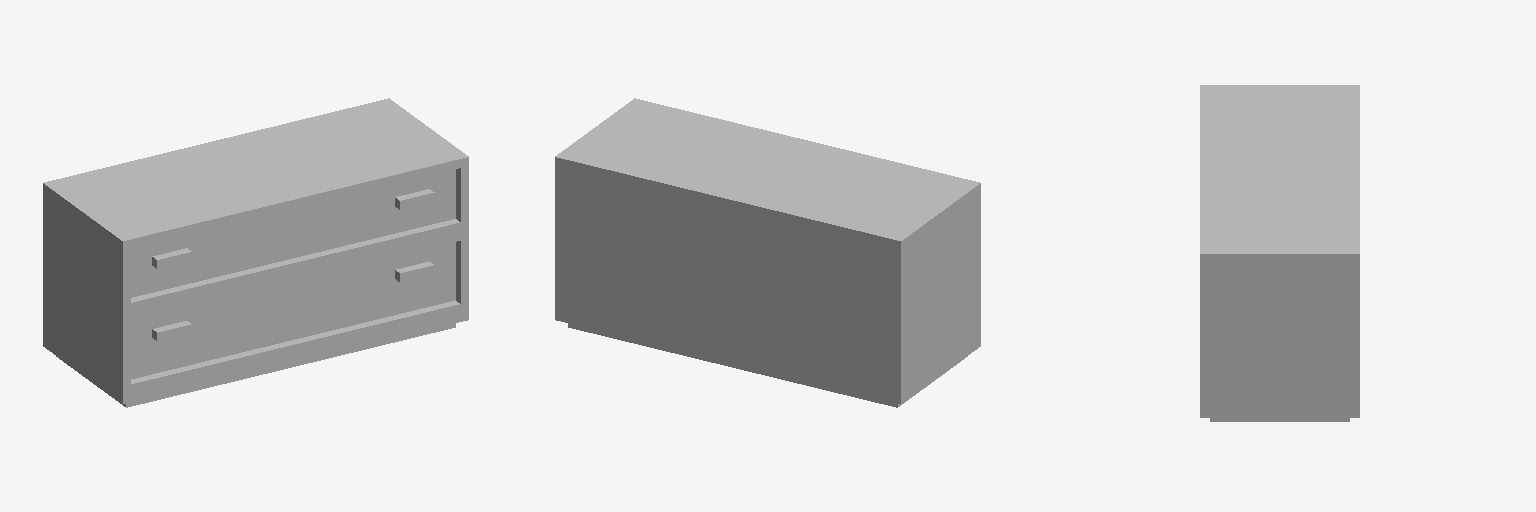
The model's file is comoda pasillo.obj.
3 renders of one model, left to right at view 1: azimuth 30°, elevation 25°; view 2: azimuth 150°, elevation 25°; view 3: azimuth 270°, elevation 25°, orthographic.
Visible parts, largest first — view 1: object 1; view 2: object 1; view 3: object 1.
Boxes of the visible parts, x1,y1,x2,y2 form: object 1: [43, 98, 468, 407]; object 1: [555, 98, 980, 407]; object 1: [1200, 85, 1359, 421].
Size of the model in its own units: 4 by 1.9 by 1.6.